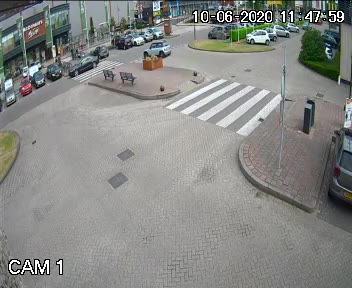car: (60, 54, 102, 76), (138, 38, 169, 59)
